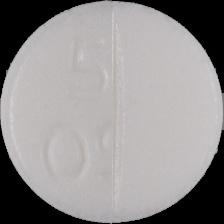0615-6516: (0, 0, 224, 224)
